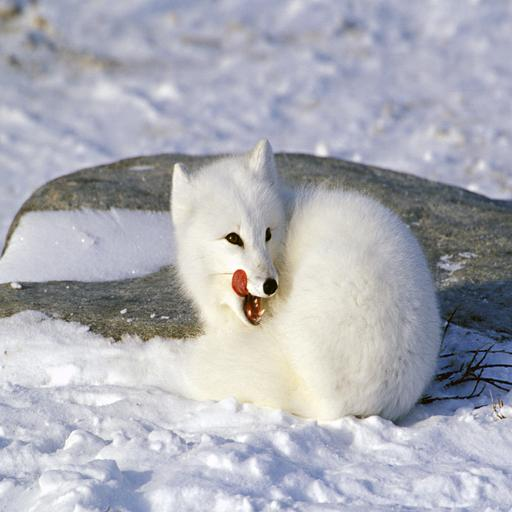Fox: (144, 136, 452, 430)
